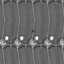dust: (32, 29, 35, 33)
